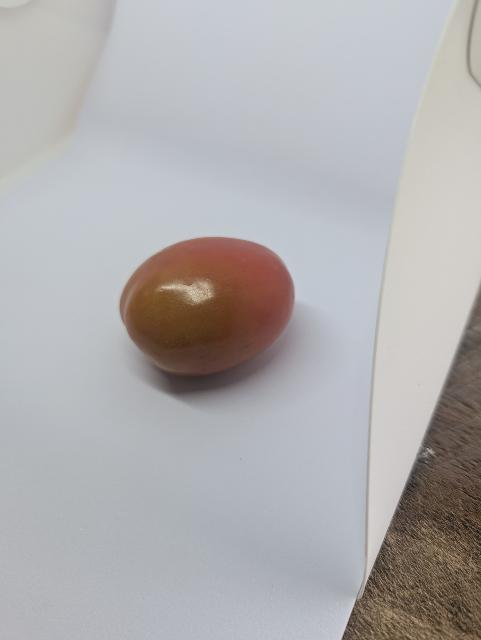turning: (118, 231, 306, 382)
